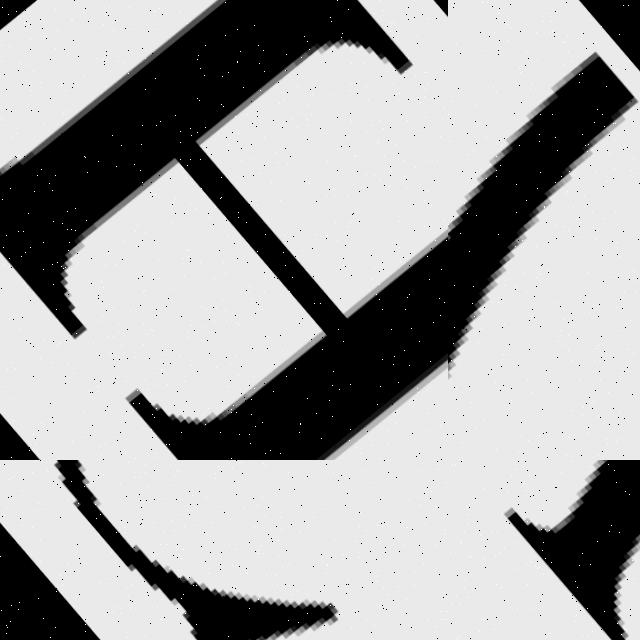7: (448, 0, 640, 460)
C: (47, 460, 328, 640)
H: (0, 0, 448, 460), (498, 460, 640, 640)
